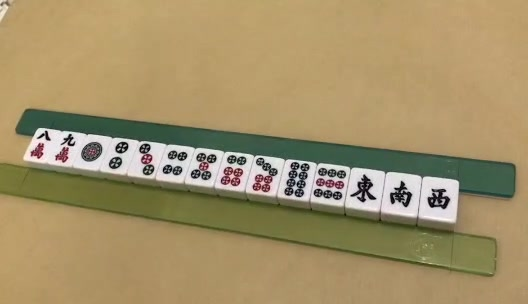1p: (81, 139, 102, 161)
1z: (351, 173, 377, 205)
2p: (109, 142, 129, 169)
2z: (387, 182, 413, 207)
3p: (139, 143, 155, 175)
3z: (428, 189, 451, 211)
4p: (162, 151, 189, 177)
5p: (189, 153, 218, 181)
6p: (220, 155, 248, 186)
7p: (252, 158, 278, 192)
8m: (30, 131, 52, 161)
8p: (283, 162, 309, 198)
9m: (55, 133, 76, 163)
9p: (314, 169, 346, 201)
